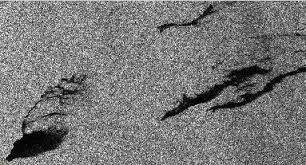anomaly: (11, 92, 91, 165)
